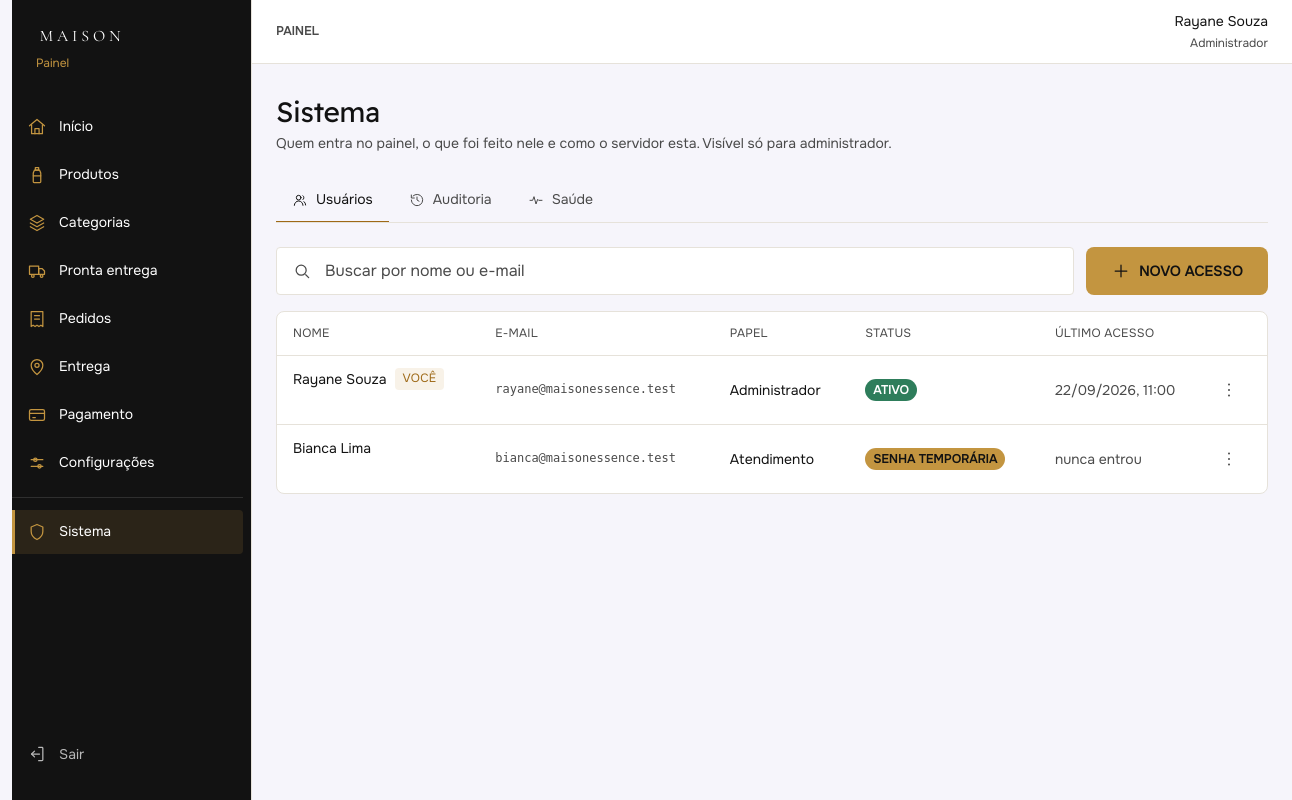
a própria conta não oferece a opção de se desativar
Expected: the text "rayane@maisonessence.test" is shown, [479,355,714,424]
Click the button named "Ações de Rayane Souza" at (1229, 390), box [1207,368,1251,412]
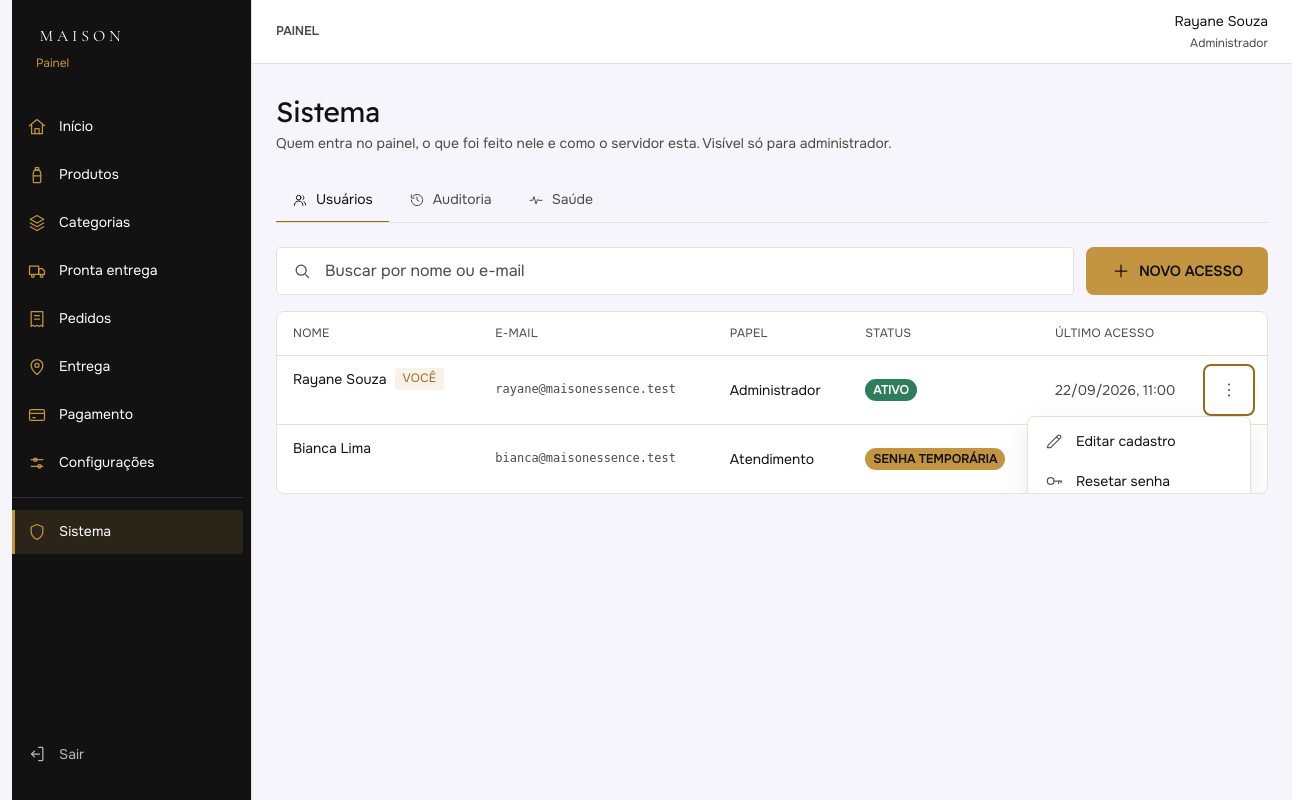
Result: the button "Resetar senha" is shown at [1032,461,1246,494]
